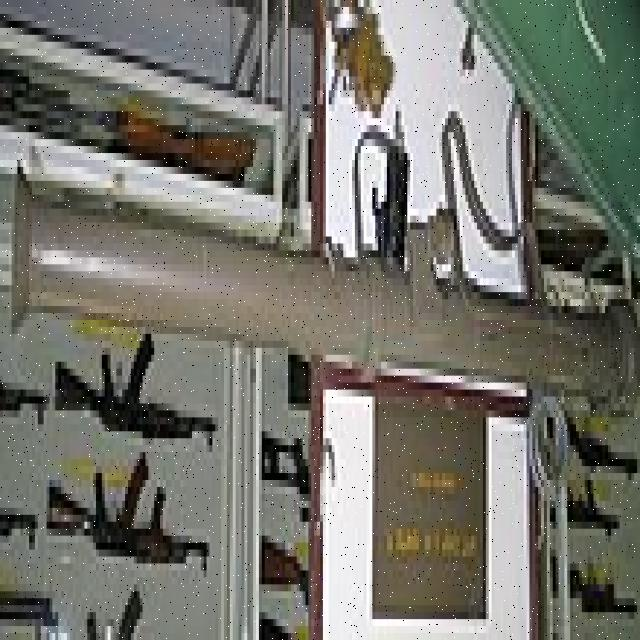bazooka: (10, 120, 640, 426)
